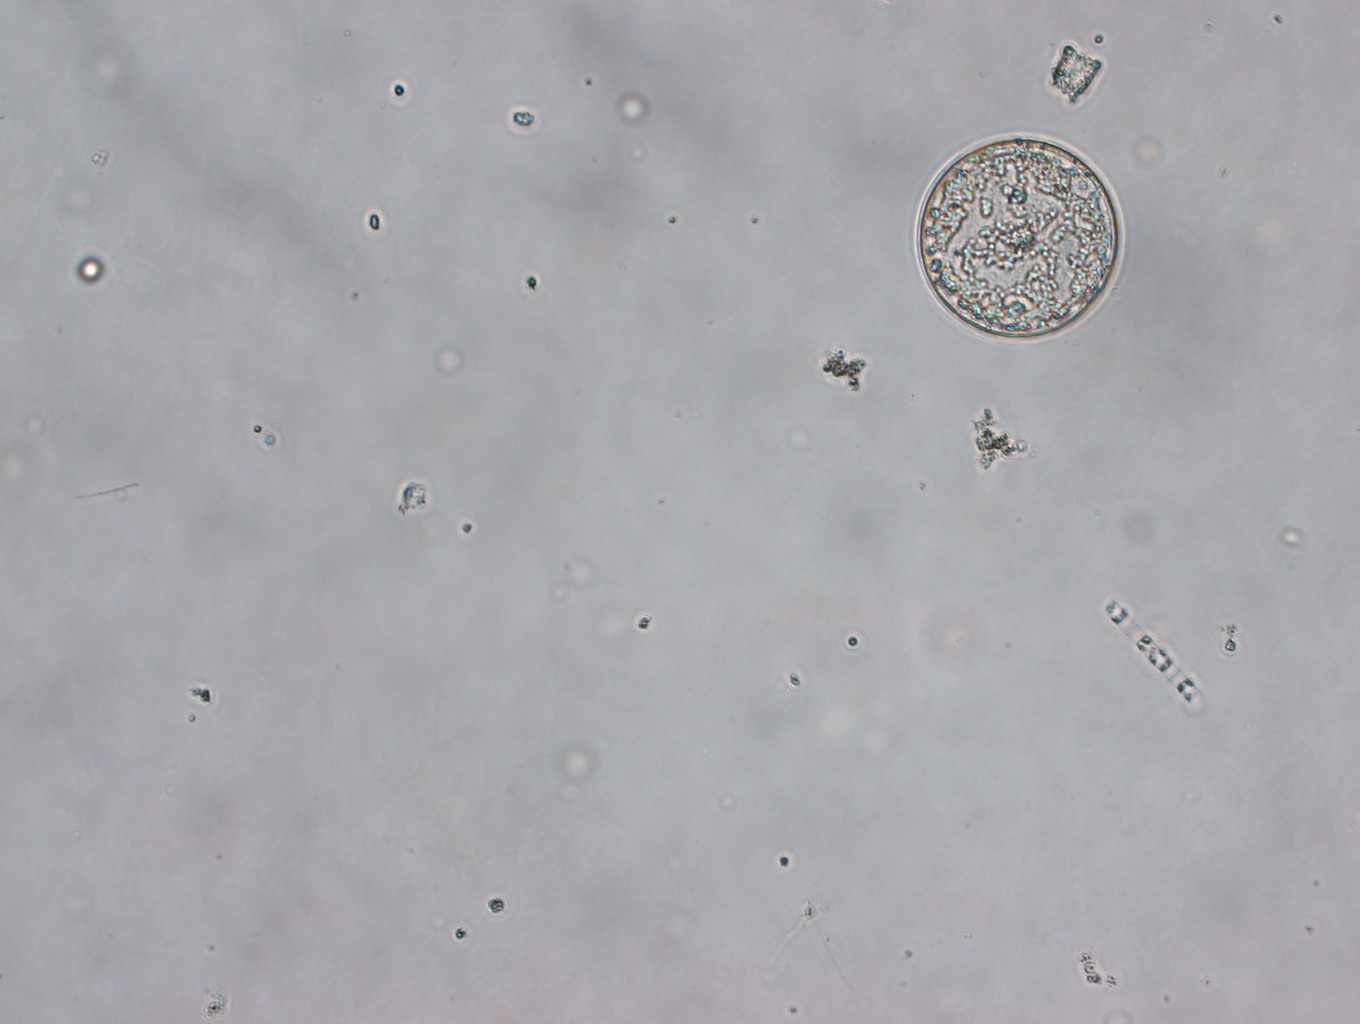coscinodiscus: (915, 134, 1125, 342)
skeletonema: (1105, 599, 1205, 710)
